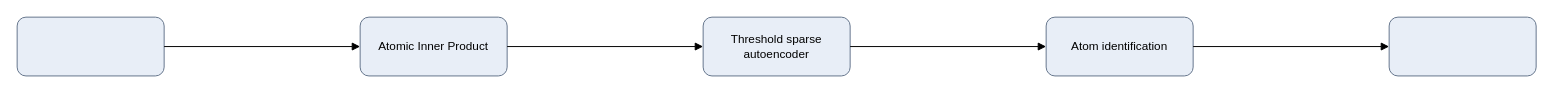
This 1553x93 diagram has some shape labels left out. Each missing label, with the box of its shape:
Faithfulness and stability evaluation: (1388, 16, 1536, 76)
Hidden representations: (16, 16, 164, 76)
